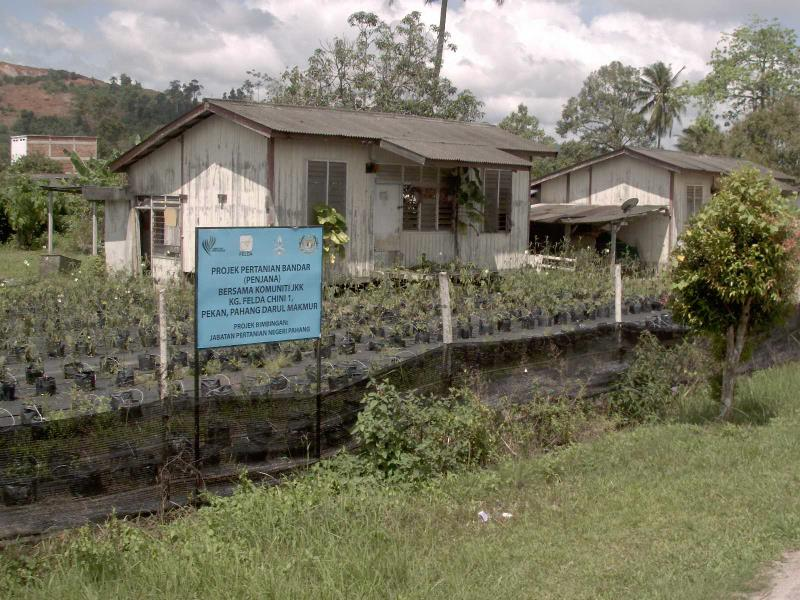ads_sign: (184, 219, 336, 362)
